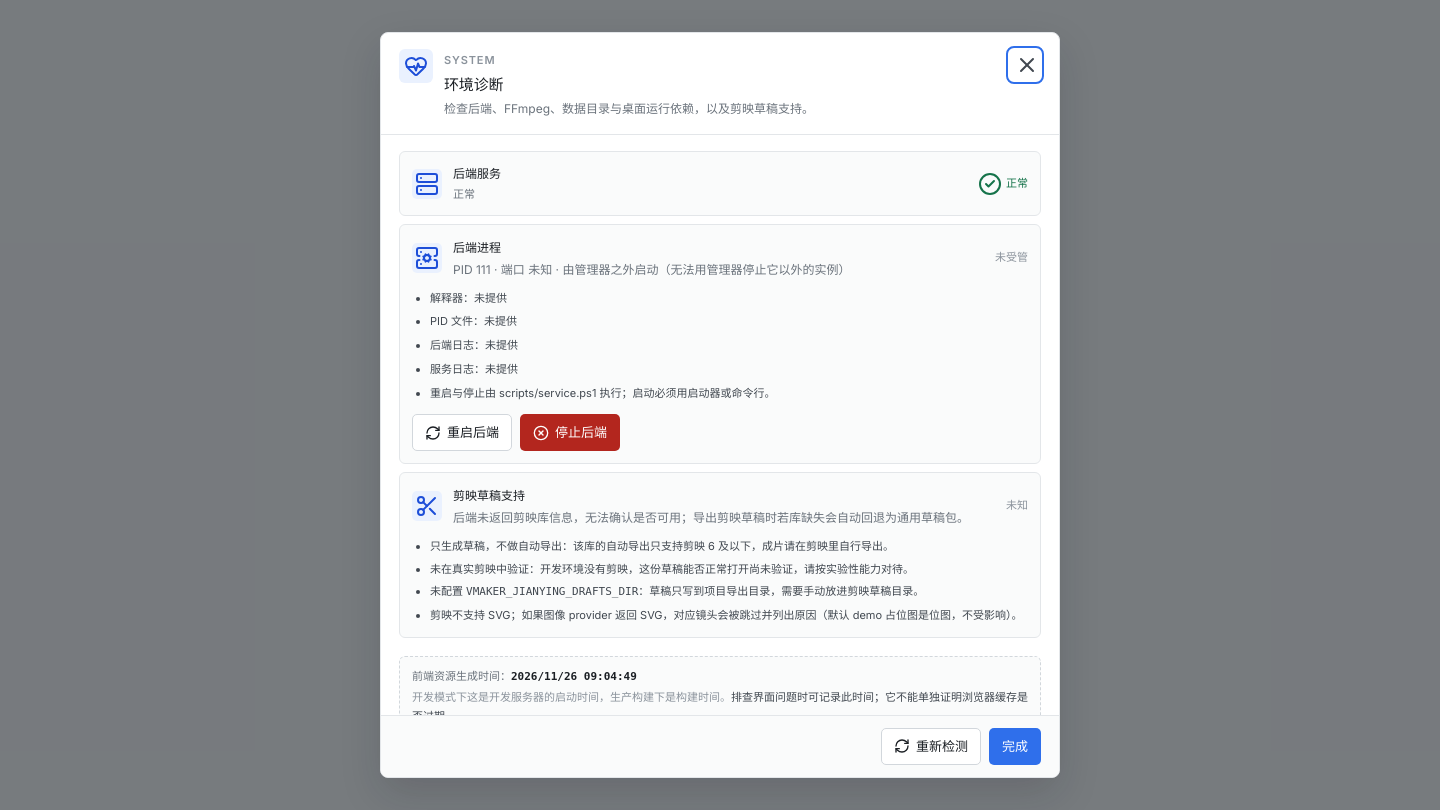
后端进程面板 › 未受管时如实说明，且停止确认框写清之后只能靠命令行启动
Check: the text "后端进程" is shown, box [453,240,501,255]
Check: the text "未受管" is shown, box [995,249,1028,267]
Click the button "停止后端": (570, 433) [520,414,620,451]
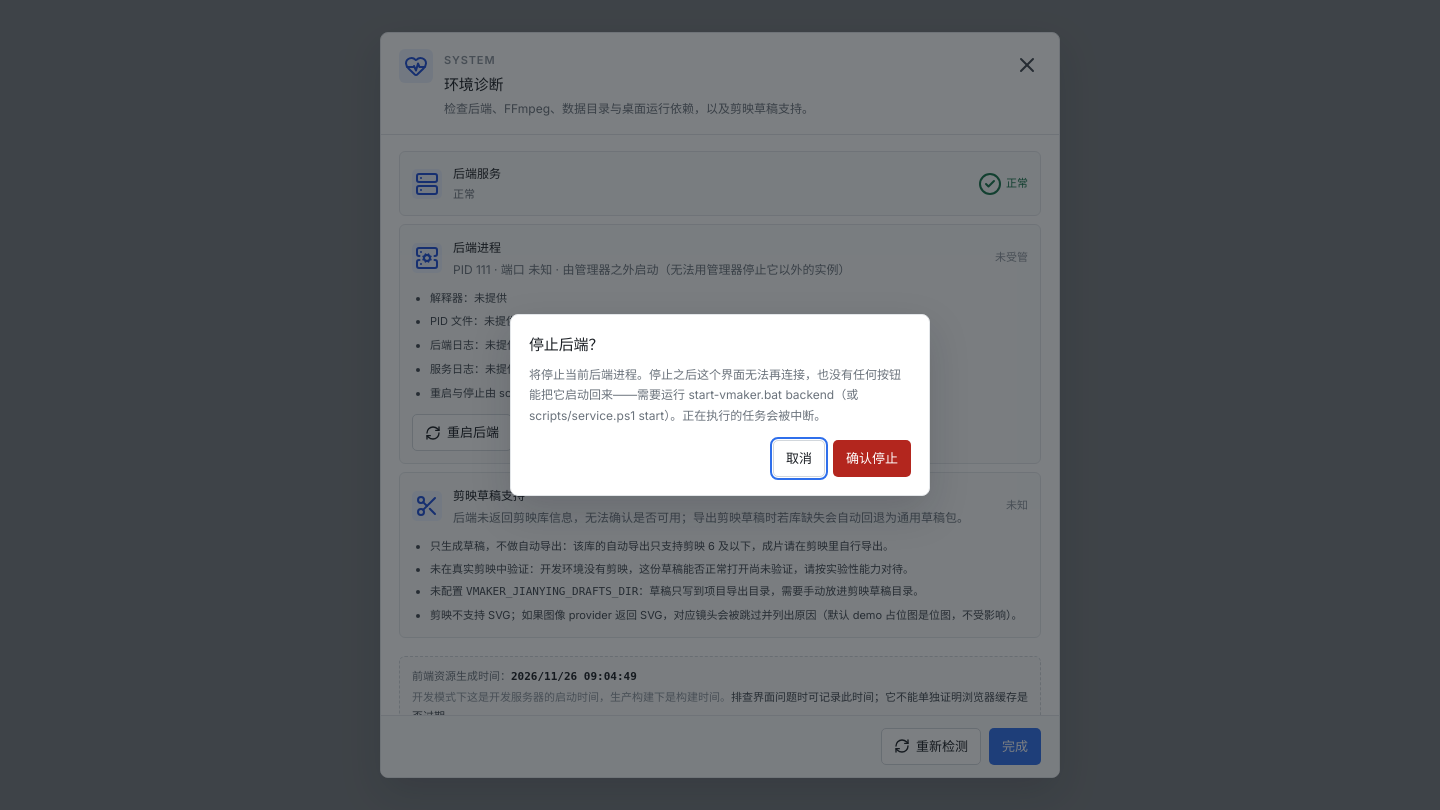
Check: the text "没有任何按钮能把它启动回来" is shown, box [529,367,901,423]
Click the button "确认停止": (872, 459) [833,440,911,477]
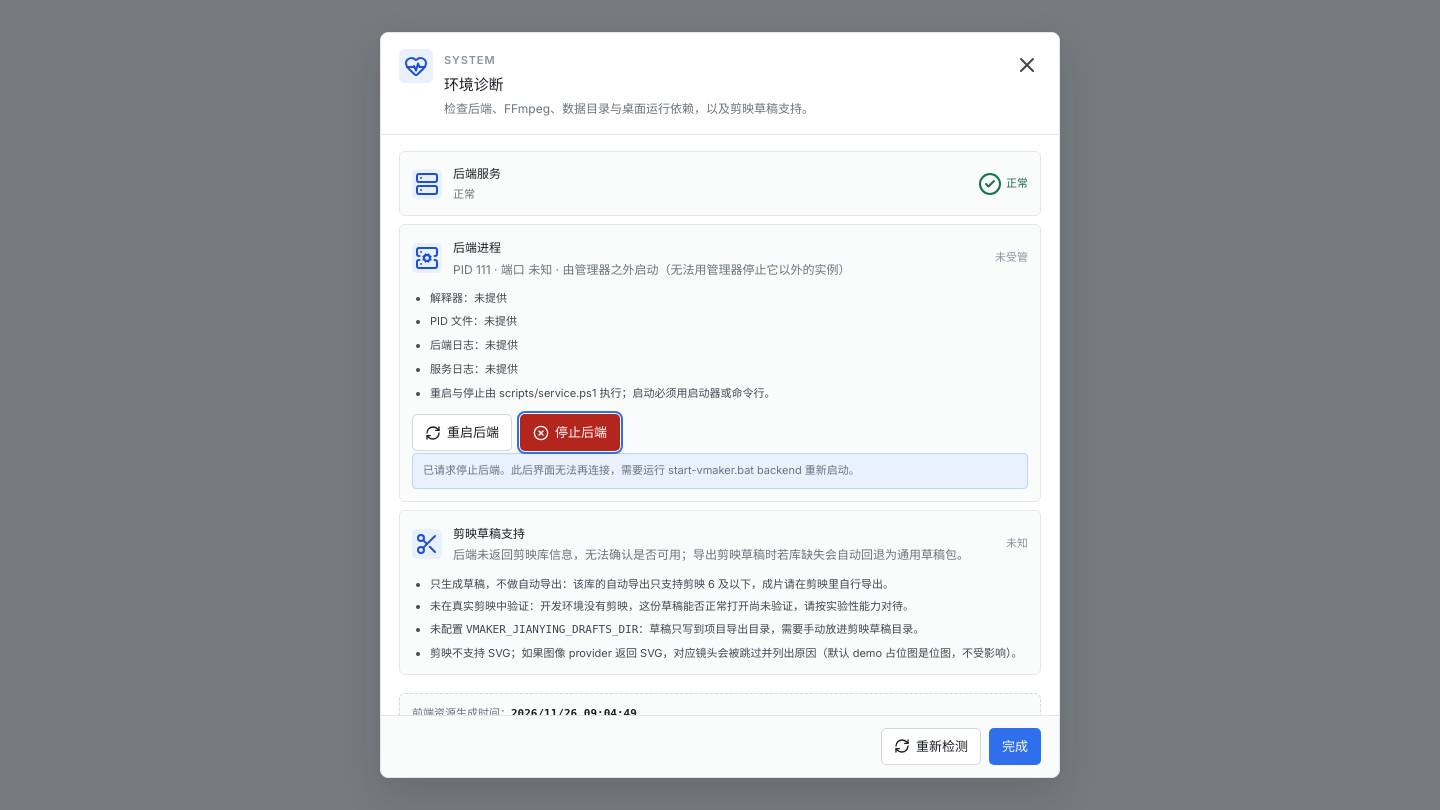
Check: the text "已请求停止后端。此后界面无法再连接，需要运行 start-vmaker.bat backend 重新启动。" is shown, box [412,453,1028,489]
